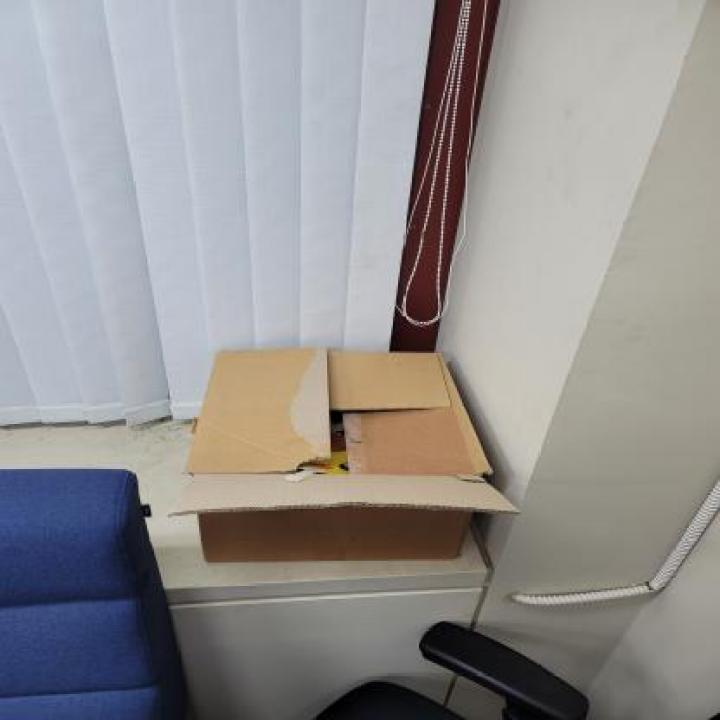box: (164, 331, 542, 586)
